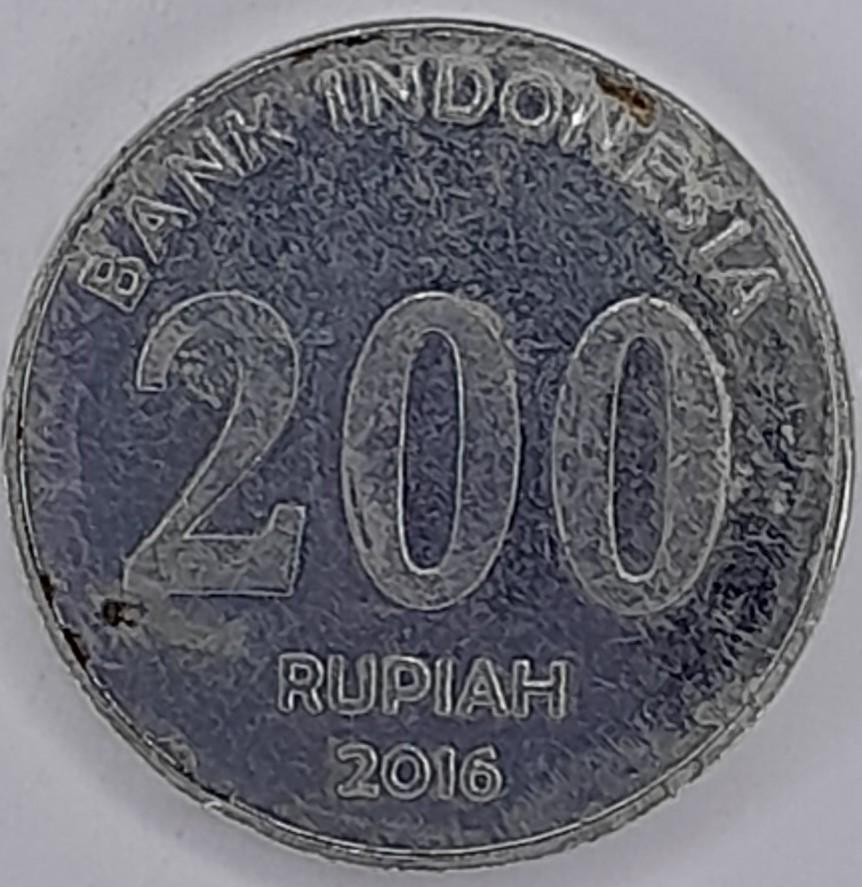coin_200_e2016: (0, 15, 862, 887)
